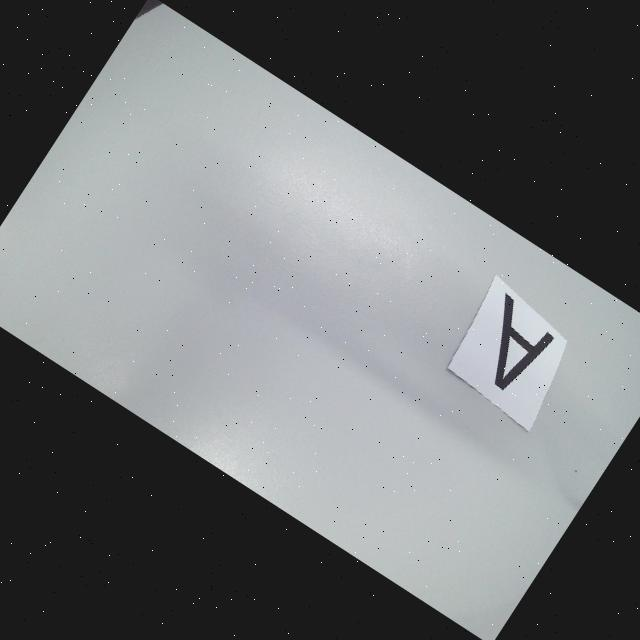FAKE: (459, 291, 562, 398)
